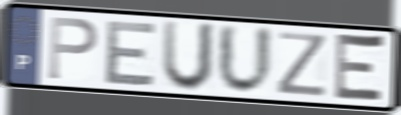E: (331, 29, 388, 107), (102, 19, 159, 87)
P: (46, 14, 100, 82)
U: (216, 22, 276, 98), (159, 18, 218, 95)
Z: (274, 30, 329, 99)
